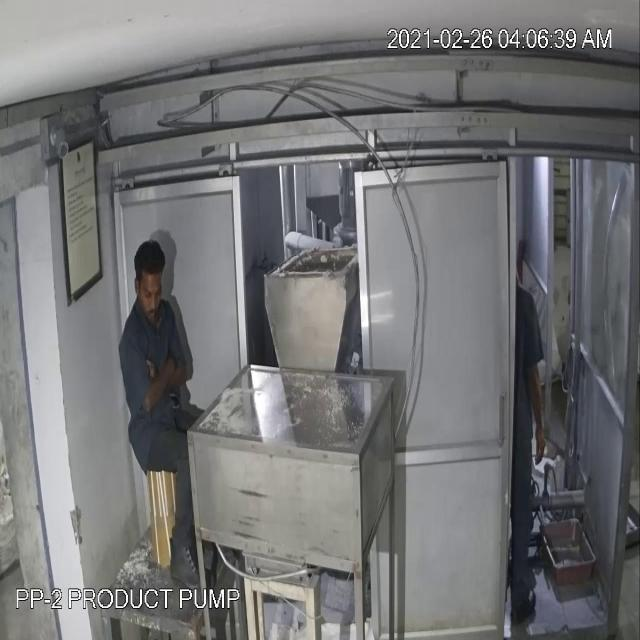no-helmet: (126, 231, 170, 291)
